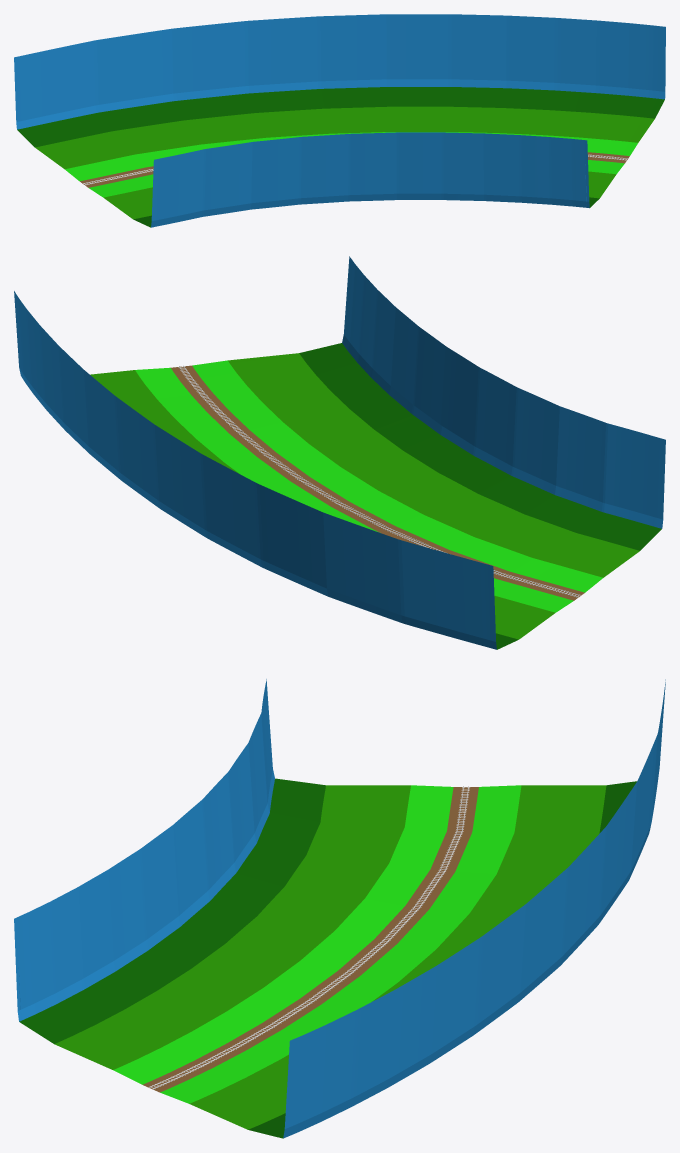
The model's file is 45ºDER.fbx.
The picture shows the model from 3 angles, top to bottom: view 1: azimuth 30°, elevation 25°; view 2: azimuth 150°, elevation 25°; view 3: azimuth 270°, elevation 25°; orthographic projection. The views are drawn at different scales.
Parts seen in each view (by area): view 1: 45º DER; view 2: 45º DER; view 3: 45º DER.
Part boxes in pixels (x1=…): 45º DER: x1=14, y1=14, x2=665, y2=227; 45º DER: x1=14, y1=256, x2=665, y2=649; 45º DER: x1=14, y1=679, x2=665, y2=1138.
Bounding box in the file's own units: 21472 × 3002 × 16323.
